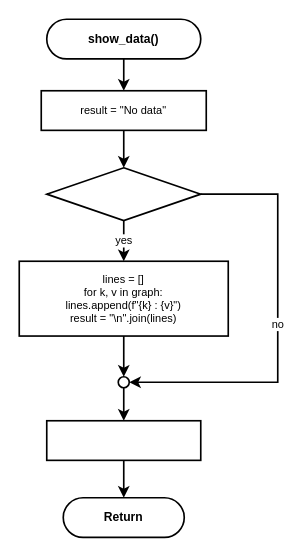
Some shapes in this 307 by 558 pixel diagram are drawn without their labels. Here are the shapes that lost their labels. From the top down, the box of each, then its label:
(45, 166, 201, 221): graph not empty
(45, 419, 201, 461): return result
